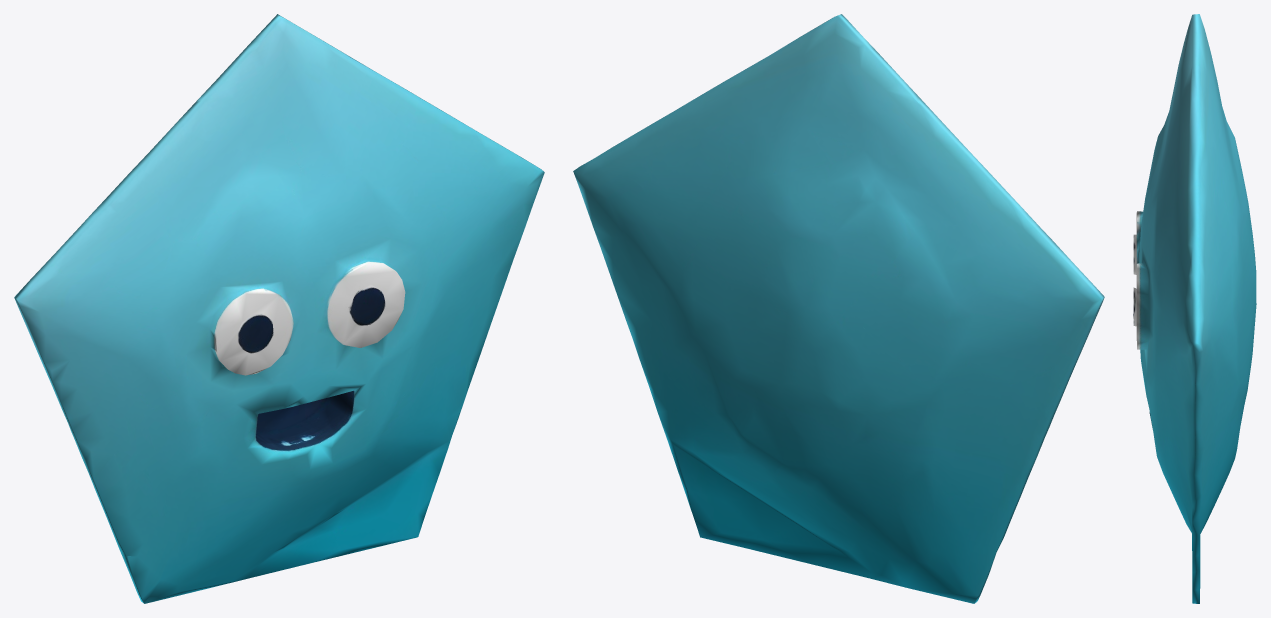
The model's file is glimmer_3d.glb.
The picture shows the model from 3 angles, left to right: view 1: azimuth 30°, elevation 25°; view 2: azimuth 150°, elevation 25°; view 3: azimuth 270°, elevation 25°; orthographic projection. The views are drawn at different scales.
Parts seen in each view (by area): view 1: tripo_node_df2da7b4-9cd0-4548-8291-8c5fbeff0605; view 2: tripo_node_df2da7b4-9cd0-4548-8291-8c5fbeff0605; view 3: tripo_node_df2da7b4-9cd0-4548-8291-8c5fbeff0605.
Part boxes in pixels (left/top/right/bottom): tripo_node_df2da7b4-9cd0-4548-8291-8c5fbeff0605: left=14, top=14, right=544, bottom=603; tripo_node_df2da7b4-9cd0-4548-8291-8c5fbeff0605: left=573, top=14, right=1104, bottom=603; tripo_node_df2da7b4-9cd0-4548-8291-8c5fbeff0605: left=1133, top=14, right=1256, bottom=603.
Size of the model in its own units: 0.9952 by 1 by 0.2117.
Materials: 1 (1 with a texture image).
